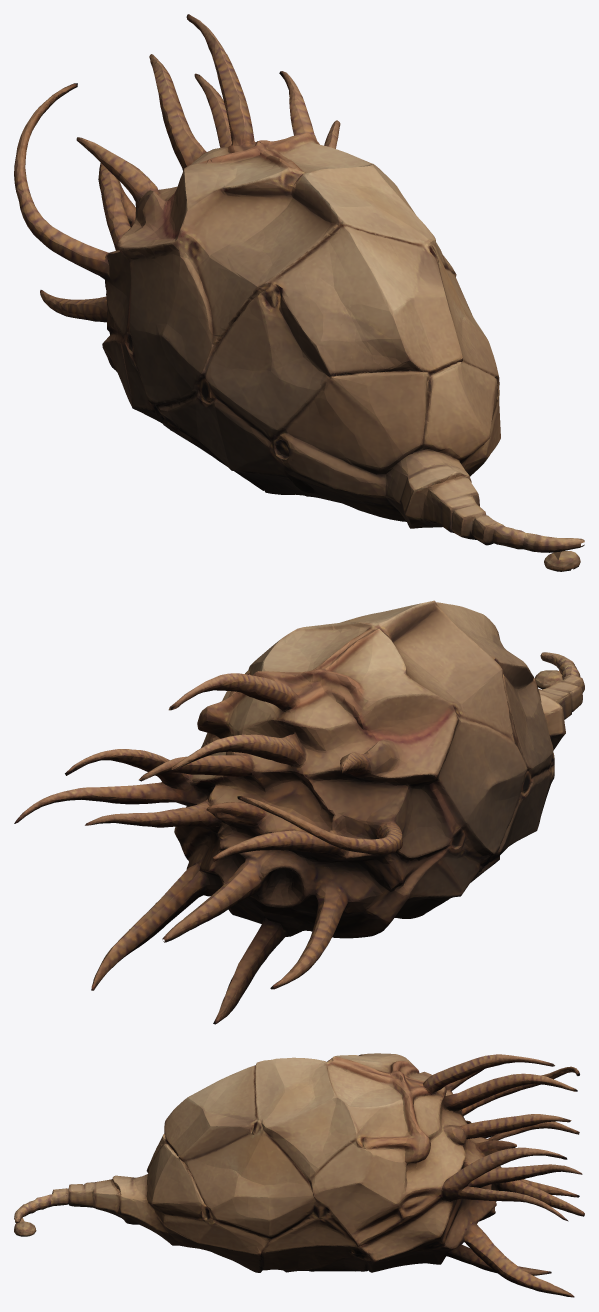
The picture shows the model from 3 angles, top to bottom: view 1: azimuth 30°, elevation 25°; view 2: azimuth 150°, elevation 25°; view 3: azimuth 270°, elevation 25°; orthographic projection. The views are drawn at different scales.
Visible parts, largest first — view 1: world; view 2: world; view 3: world.
Boxes of the visible parts, left/top/right/bottom form: world: left=14, top=14, right=584, bottom=571; world: left=14, top=600, right=584, bottom=1024; world: left=14, top=1053, right=584, bottom=1297.
Size of the model in its own units: 0.4862 by 0.4466 by 1.
Materials: 1 (1 with a texture image).
